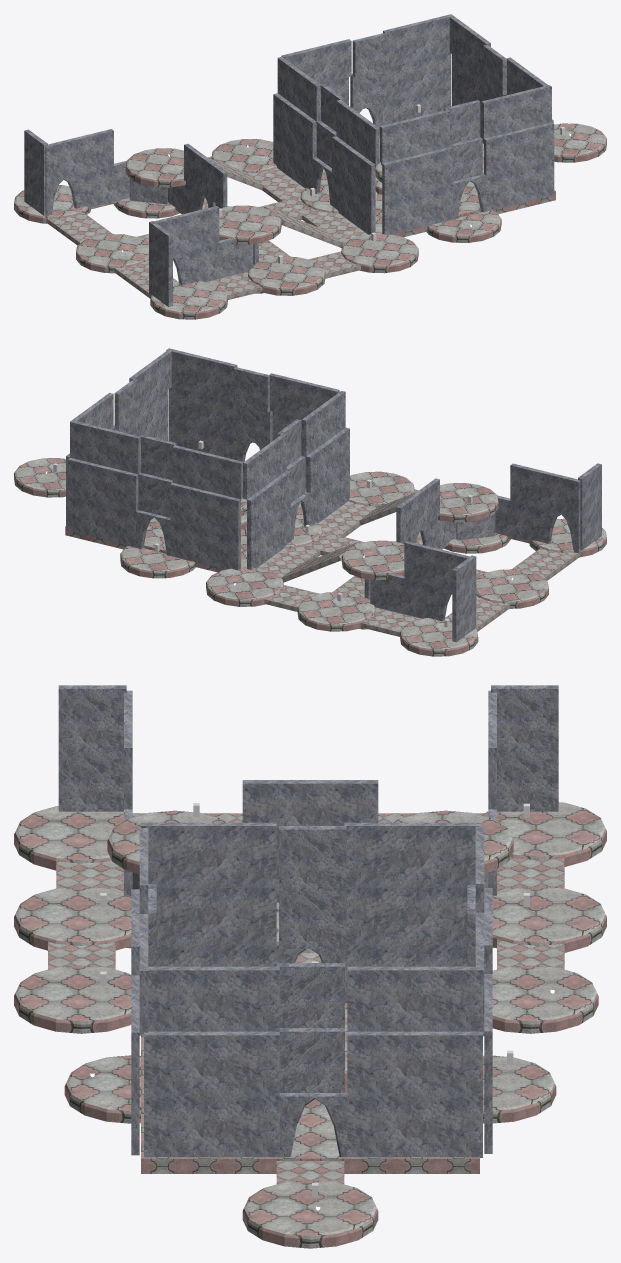
File: map.gltf
The picture shows the model from 3 angles, top to bottom: view 1: azimuth 30°, elevation 25°; view 2: azimuth 150°, elevation 25°; view 3: azimuth 270°, elevation 25°; orthographic projection. The views are drawn at different scales.
Visible parts, largest first — view 1: Wall2.029, Wall2.028, Wall2.027, Wall2.030, Wall2.005, Wall2.026, Wall2.025, Cylinder.006, Cylinder.009, Wall2.018, Wall2.003, Cylinder (+50 smaller); view 2: Wall2.016, Wall2.017, Wall2.004, Wall2.015, Wall2.018, Wall2.013, Wall2.014, Wall2.029, Cylinder.007, Cylinder.010, Wall2.002, Cylinder (+51 smaller); view 3: Wall2.021, Wall2.022, Wall2.023, Wall2.024, Wall2.012, Wall2.011, Wall2.019, Wall2.020, Cylinder.016, Floorboard2.014, Wall2.010, Wall2.009 (+39 smaller).
Part boxes in pixels (x1,y1,x2,y2): Wall2.029: [481, 85, 551, 138]; Wall2.028: [382, 147, 452, 200]; Wall2.027: [484, 122, 554, 175]; Wall2.030: [380, 110, 449, 163]; Wall2.005: [45, 129, 113, 182]; Wall2.026: [382, 184, 452, 234]; Wall2.025: [486, 159, 554, 211]; Cylinder.006: [248, 256, 325, 295]; Cylinder.009: [341, 234, 418, 273]; Wall2.018: [383, 14, 452, 66]; Wall2.003: [185, 238, 253, 284]; Cylinder: [76, 234, 148, 273]; Wall2.016: [67, 457, 138, 511]; Wall2.017: [172, 445, 243, 499]; Wall2.004: [510, 463, 580, 517]; Wall2.015: [170, 483, 240, 536]; Wall2.018: [70, 421, 140, 474]; Wall2.013: [170, 520, 240, 570]; Wall2.014: [67, 495, 135, 547]; Wall2.029: [166, 348, 237, 401]; Cylinder.007: [297, 592, 375, 631]; Cylinder.010: [206, 567, 283, 606]; Wall2.002: [370, 574, 438, 620]; Cylinder: [476, 569, 548, 608]; Wall2.021: [347, 1031, 482, 1096]; Wall2.022: [144, 1031, 279, 1096]; Wall2.023: [347, 966, 482, 1031]; Wall2.024: [144, 966, 279, 1031]; Wall2.012: [344, 822, 479, 887]; Wall2.011: [141, 822, 276, 887]; Wall2.019: [347, 1096, 482, 1157]; Wall2.020: [144, 1096, 279, 1157]; Cylinder.016: [242, 1180, 378, 1248]; Floorboard2.014: [141, 1035, 479, 1173]; Wall2.010: [346, 887, 467, 945]; Wall2.009: [156, 887, 276, 945].
Bounding box in the file's own units: 123 × 26.21 × 70.
